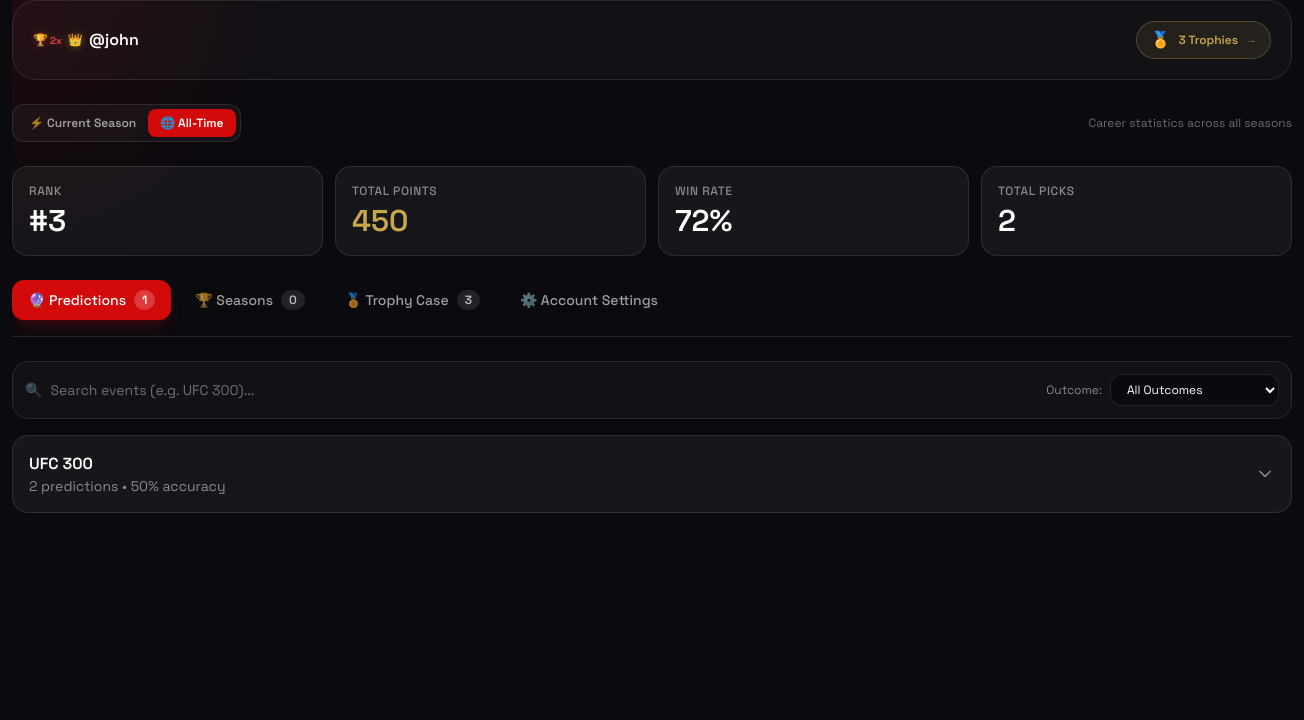
ProfileView › filters trophies by category dropdown including win streaks
Switch to trophy tab
Click the button "🏅 Trophy Case 3" at (412, 300), box [329,280,496,320]
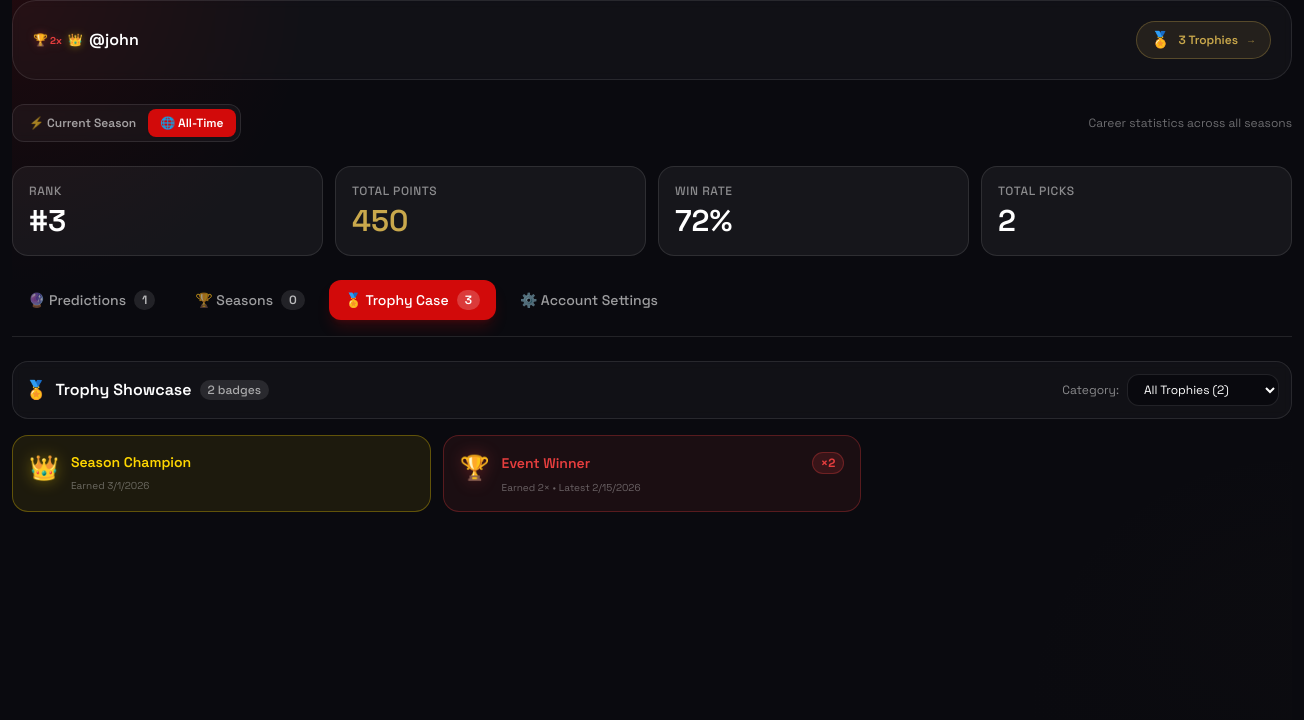
Filter to Championships only
Select "Championships (1)" in the dropdown labelled "Category:" at (1203, 390), box [1127,374,1279,406]
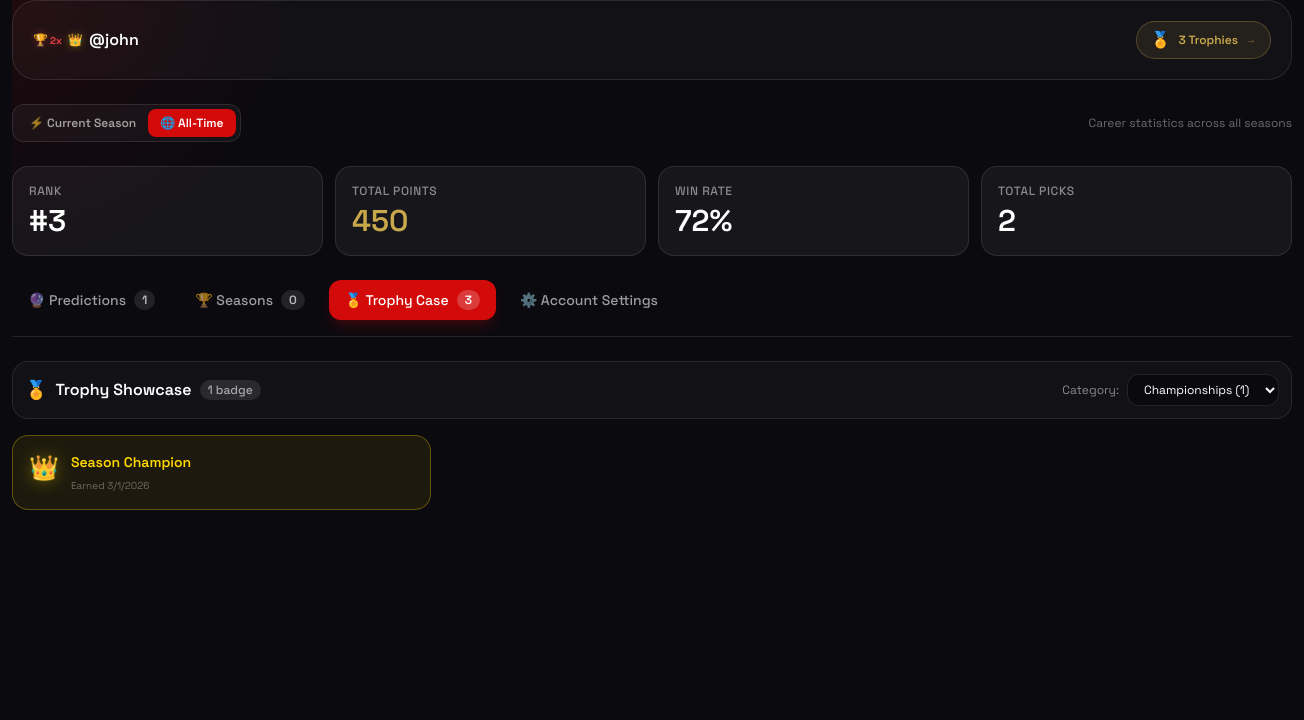
Check: the text "Season Champion" is shown, box [71,453,191,471]
Check: the text "Event Winner" is gone
Filter to Streaks (user has 0 streaks)
Select "Win Streaks (0)" in the dropdown labelled "Category:" at (1203, 390), box [1127,374,1279,406]
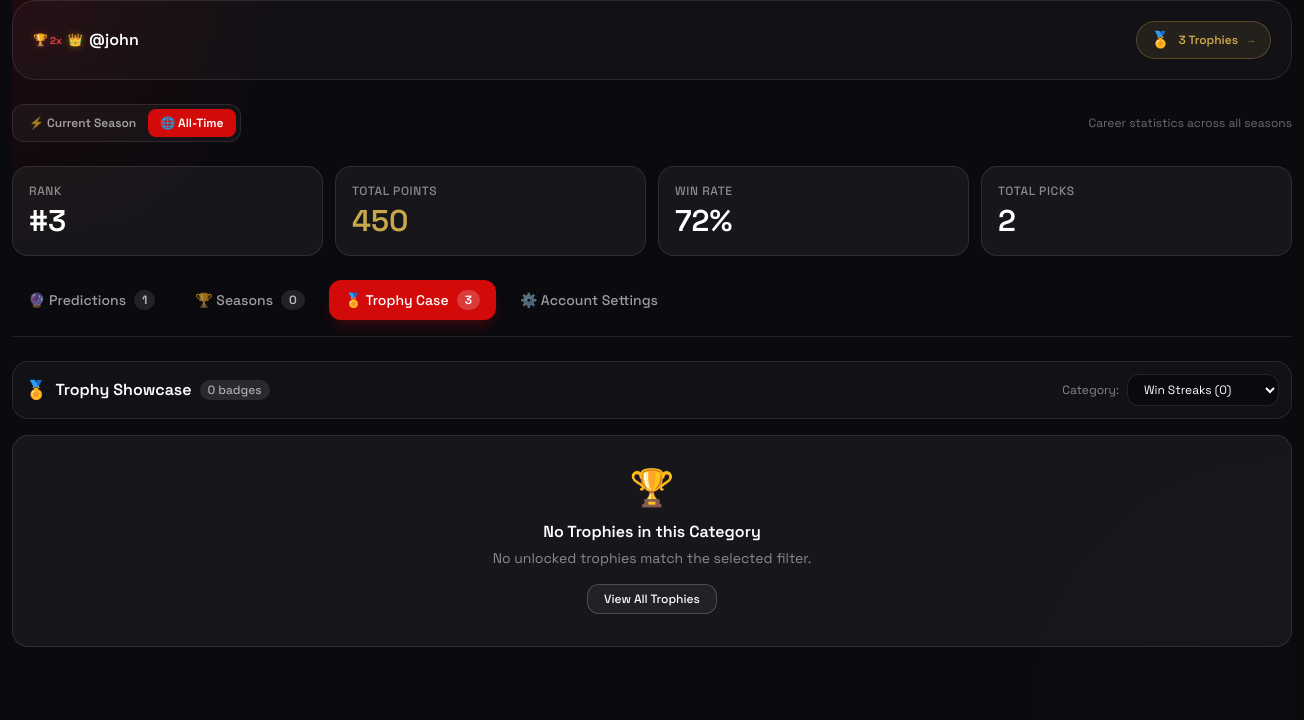
Check: the heading "No Trophies in this Category" is shown, box [543,521,761,542]
